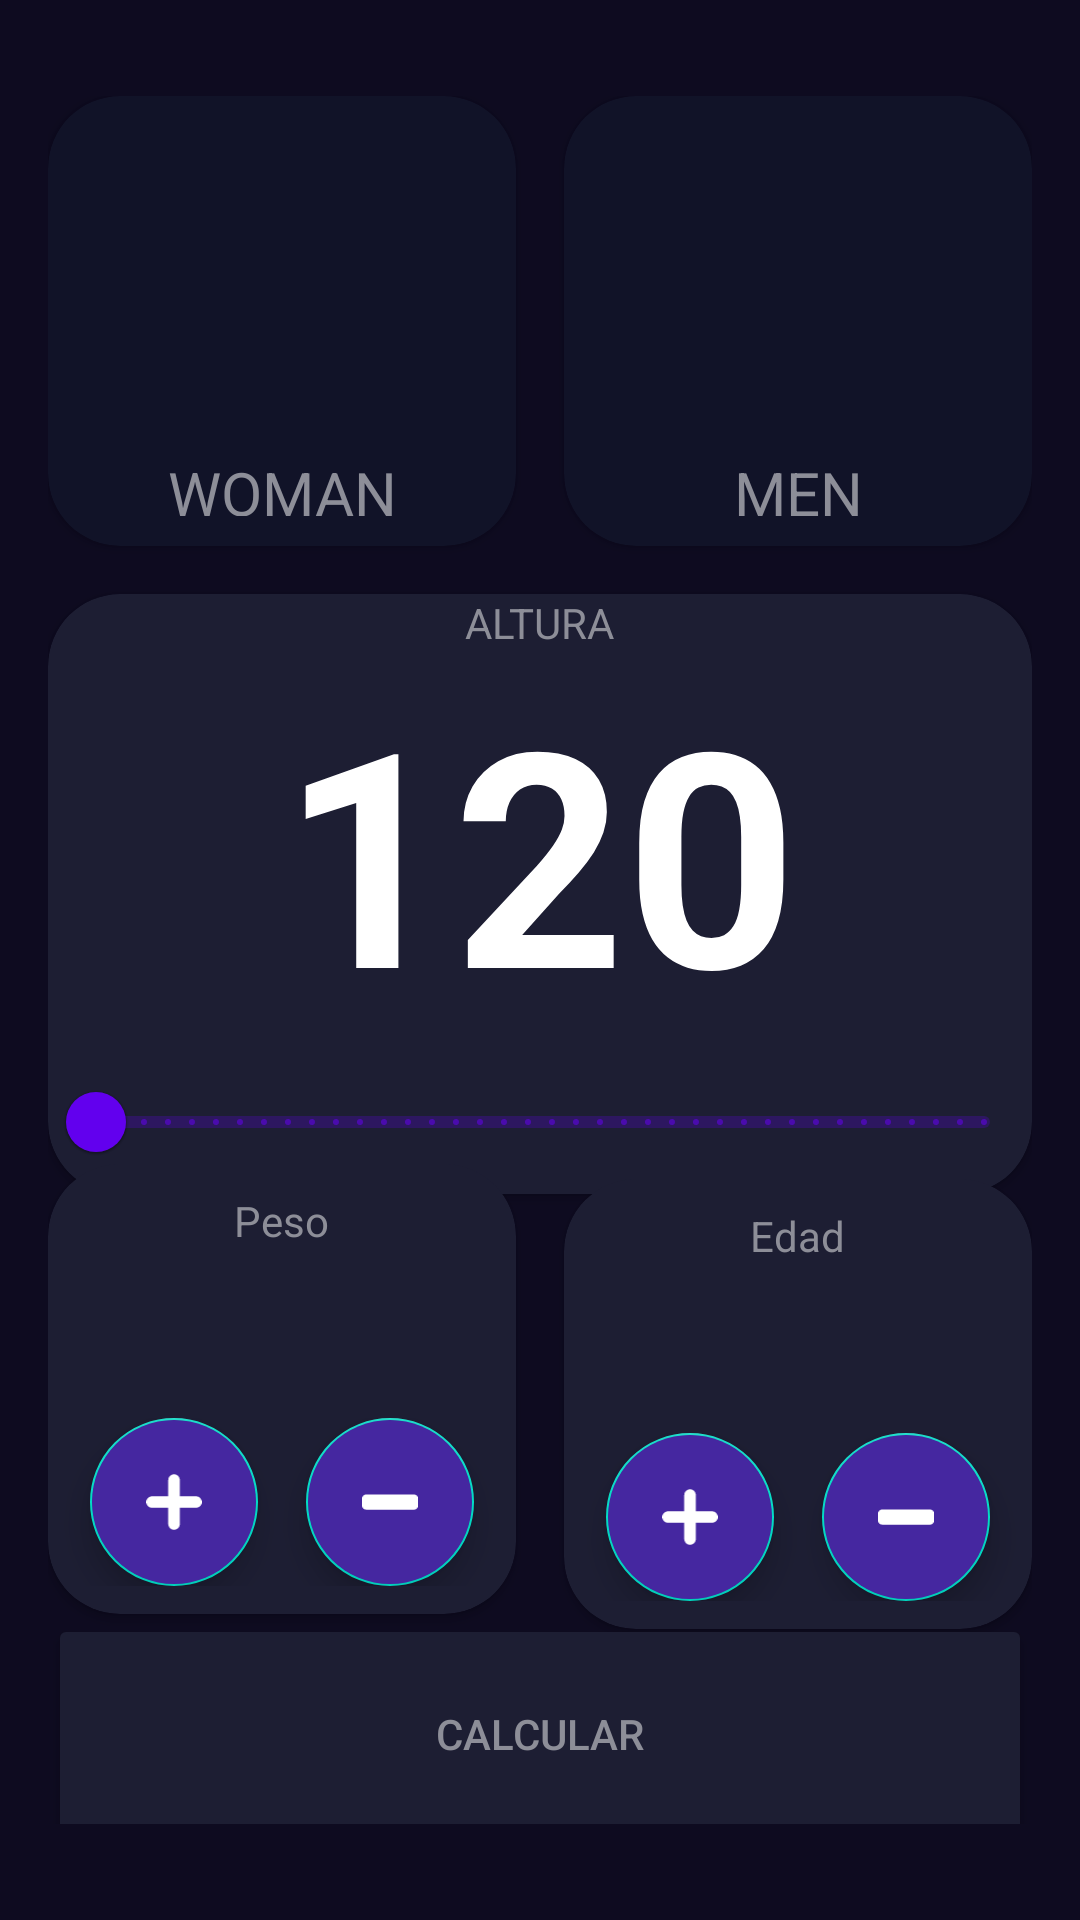

Screen size 1080*1920. Icon name, then its box in pixels as (x1, y1, x2, y2):
minum: (306, 1418, 474, 1586), (822, 1433, 990, 1601)
plus: (90, 1418, 258, 1586), (606, 1433, 774, 1601)
